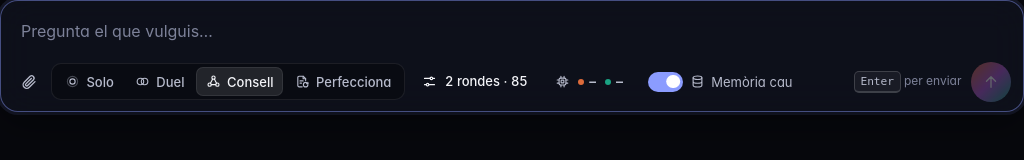
Composer: the «Perfecciona» mode › shows its options, from the saved defaults, instead of the debate ones and the cache
Type "Escriu un pla de llançament." into the text box with placeholder "Pregunta el que vulguis…" at x=512, y=33, box [13, 12, 1011, 54]
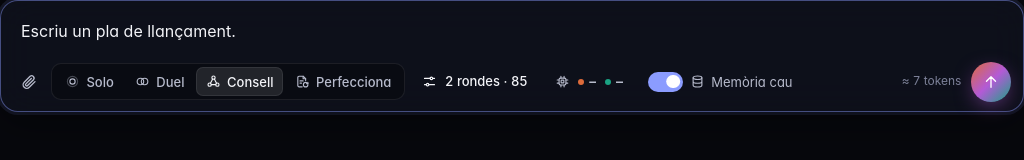
Click the radio button labelled "Perfecciona" at x=343, y=82, box [295, 74, 391, 90]
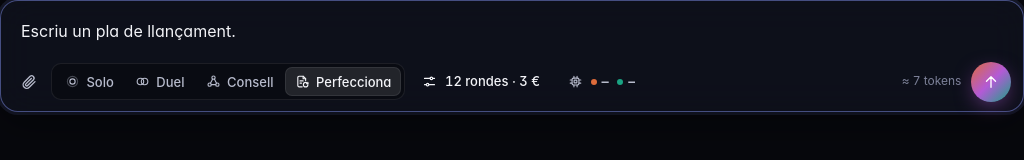
Check: the text "12 rondes · 3 €" is shown, box [445, 74, 540, 90]
Check: the label with class "cache" is gone
